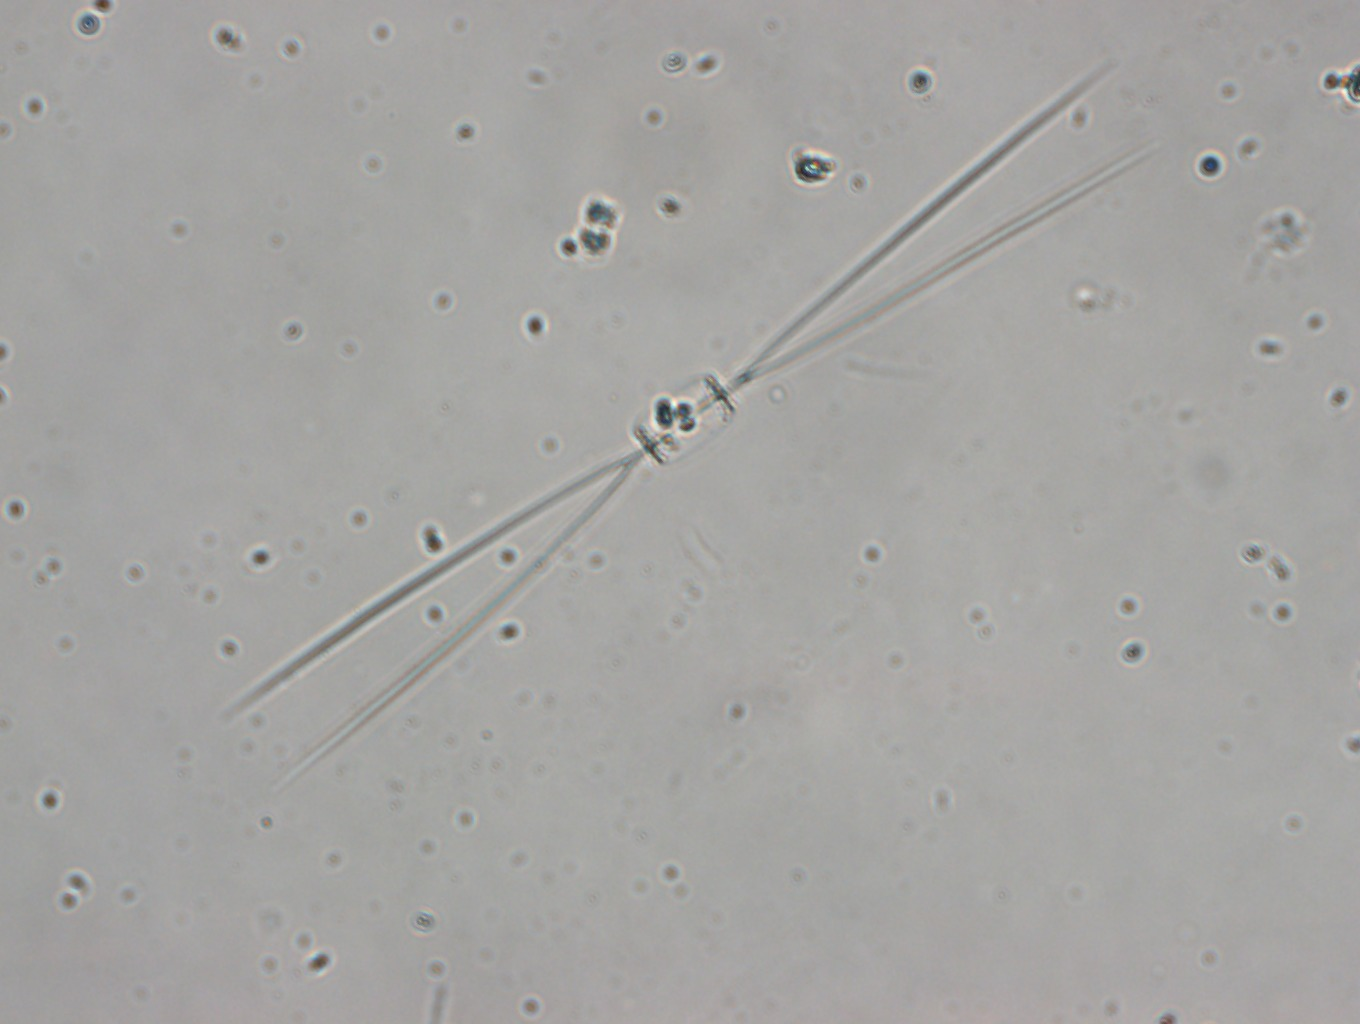chaetoceros: (217, 57, 1157, 794)
